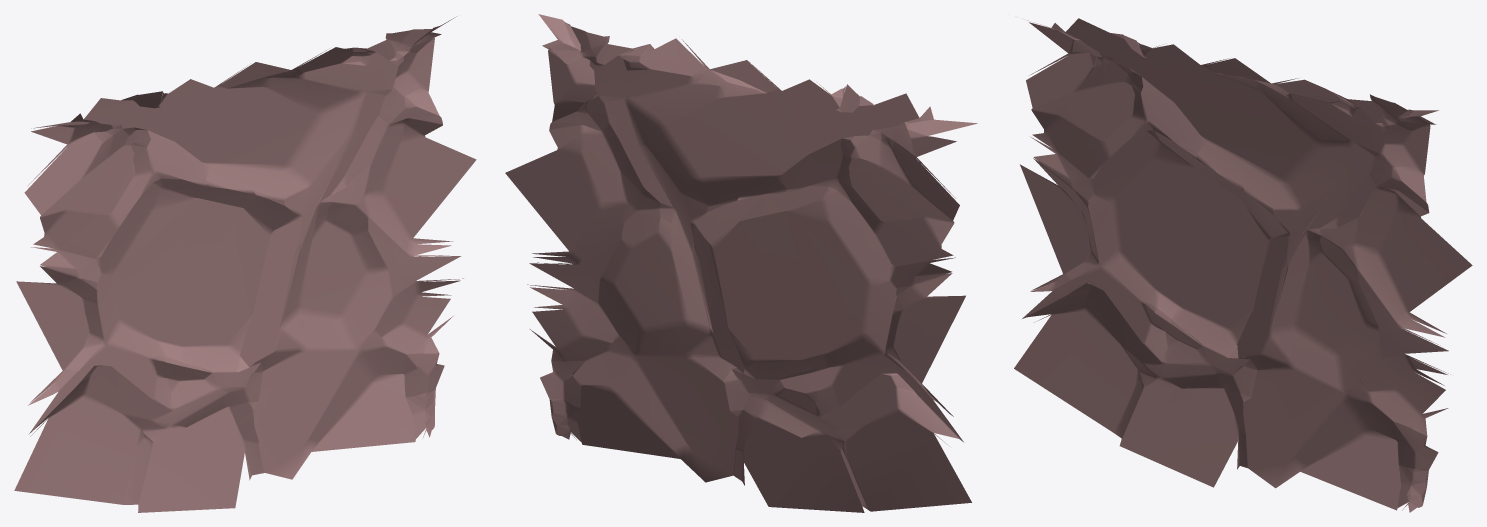
The model's file is plateau.fbx_Rock_Plateau_018LODs.fbx.
3 renders of one model, left to right at view 1: azimuth 30°, elevation 25°; view 2: azimuth 150°, elevation 25°; view 3: azimuth 330°, elevation 25°, orthographic.
Parts seen in each view (by area): view 1: Rock Plateau.018_LOD0; view 2: Rock Plateau.018_LOD0; view 3: Rock Plateau.018_LOD0.
Boxes of the visible parts, x1,y1,x2,y2 form: Rock Plateau.018_LOD0: [14, 16, 476, 512]; Rock Plateau.018_LOD0: [505, 14, 977, 512]; Rock Plateau.018_LOD0: [1014, 18, 1472, 512].
Size of what is drawn, in the model's own units: 3026 by 2768 by 181.
